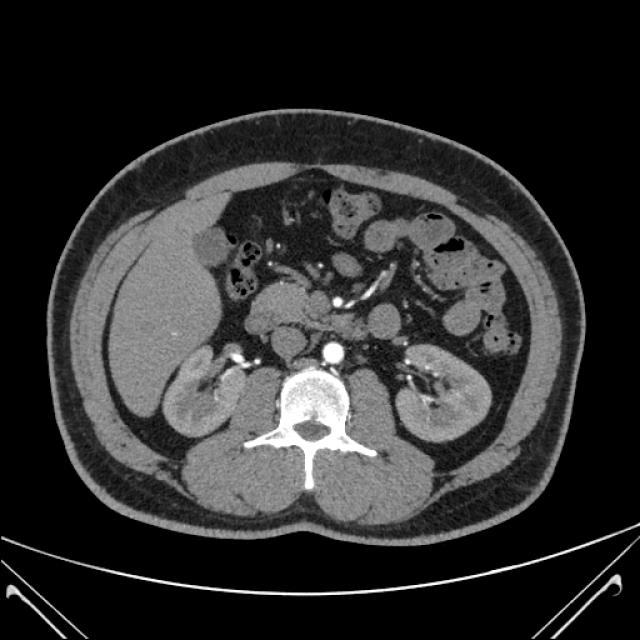Kidney: (40, 108, 634, 516)
